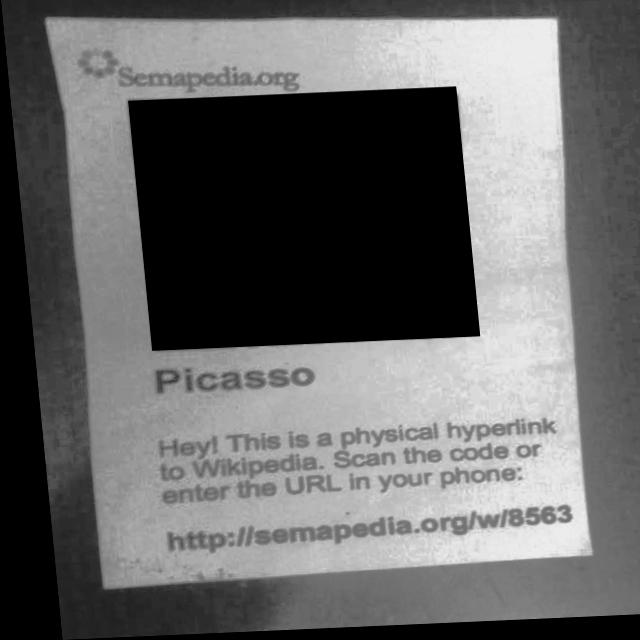qr_code: (125, 90, 472, 352)
